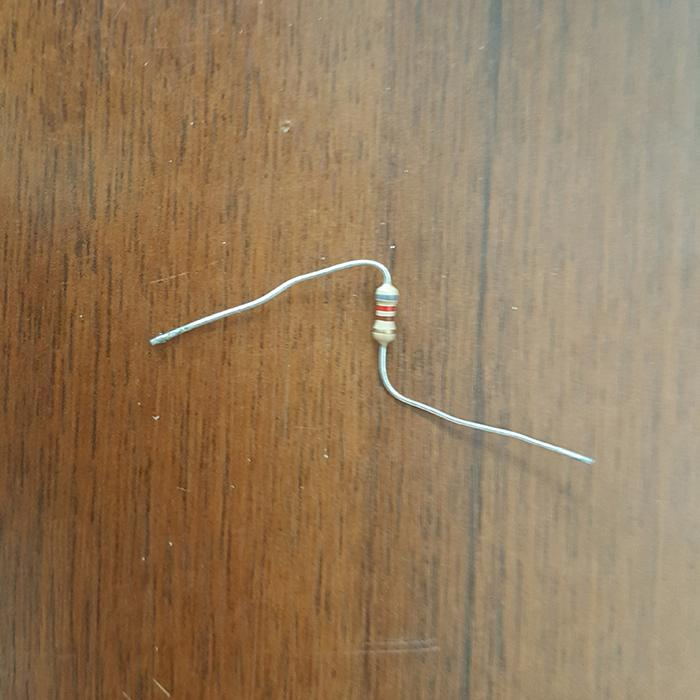resistor: (370, 282, 399, 346)
